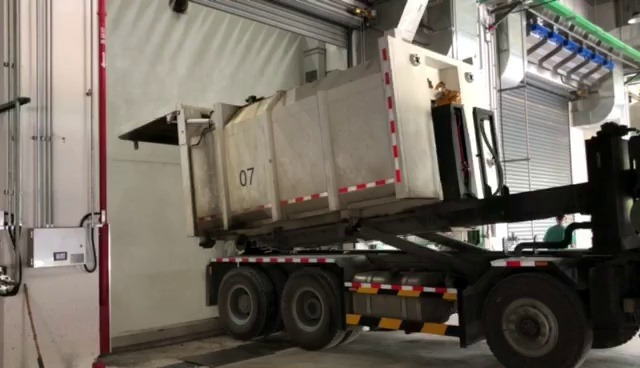dust: (109, 166, 197, 318)
truck: (172, 28, 640, 367)
